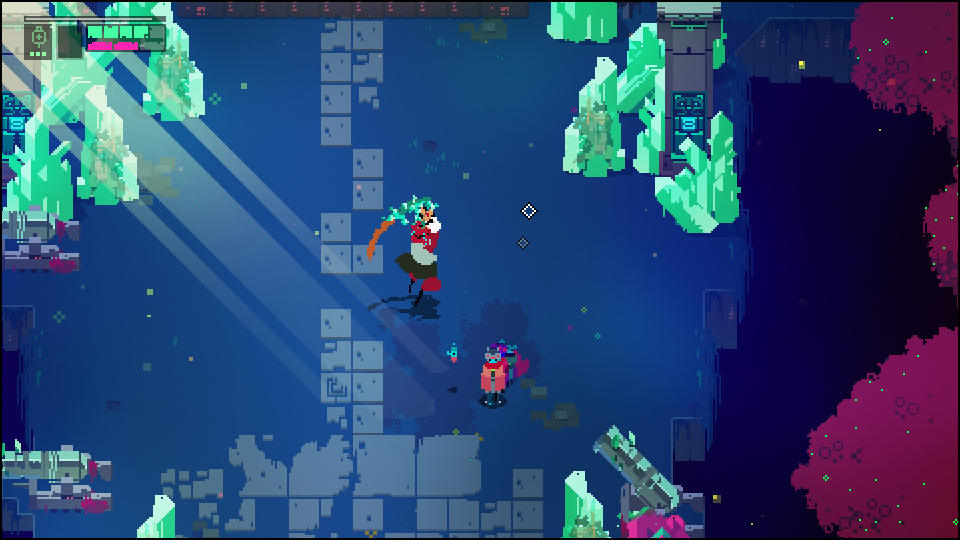hanged_man: (370, 195, 446, 313)
player: (480, 347, 505, 404)
